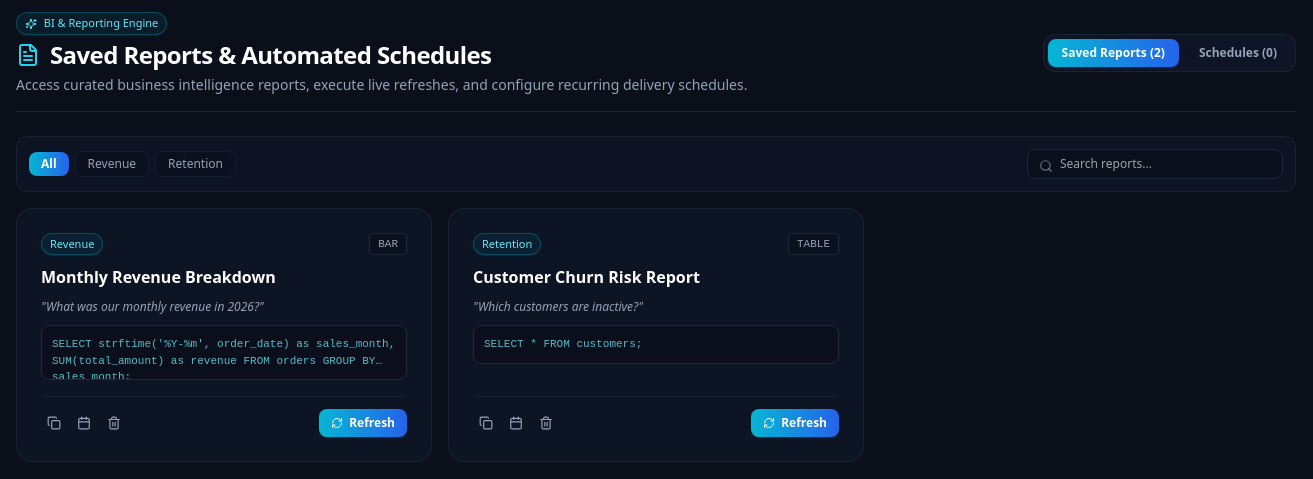
Scenario: Reports & Visualizations › filters saved reports by category
Check: the heading "Monthly Revenue Breakdown" is shown, box [41,266,276,288]
Check: the heading "Customer Churn Risk Report" is shown, box [473,266,700,288]
Step 1. Click the button "Retention" → click(196, 164), box [155,150,236,176]
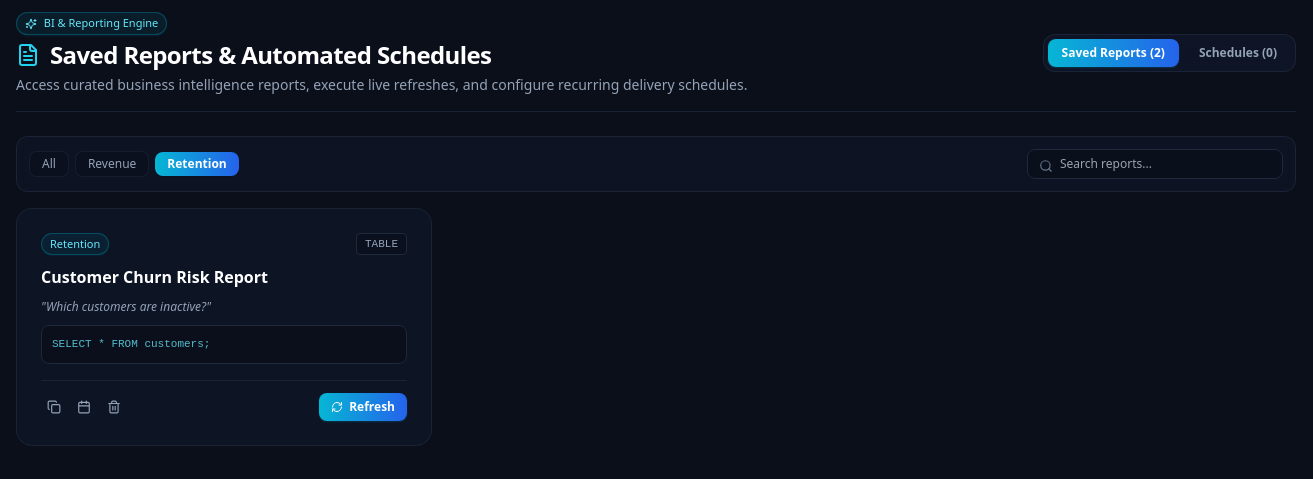
Check: the heading "Customer Churn Risk Report" is shown, box [41,266,268,288]
Check: the heading "Monthly Revenue Breakdown" is gone
